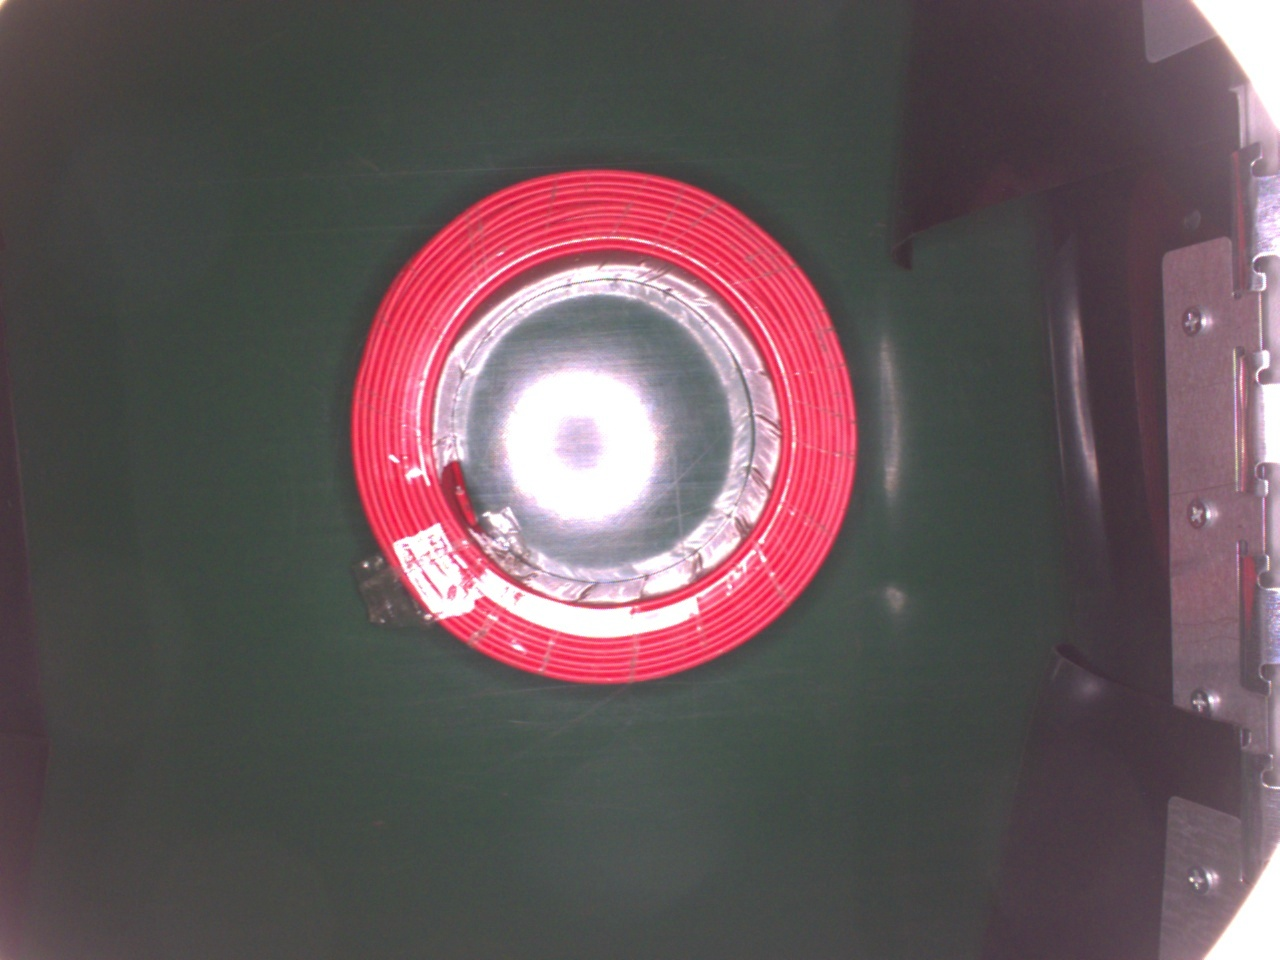red: (351, 169, 856, 681)
